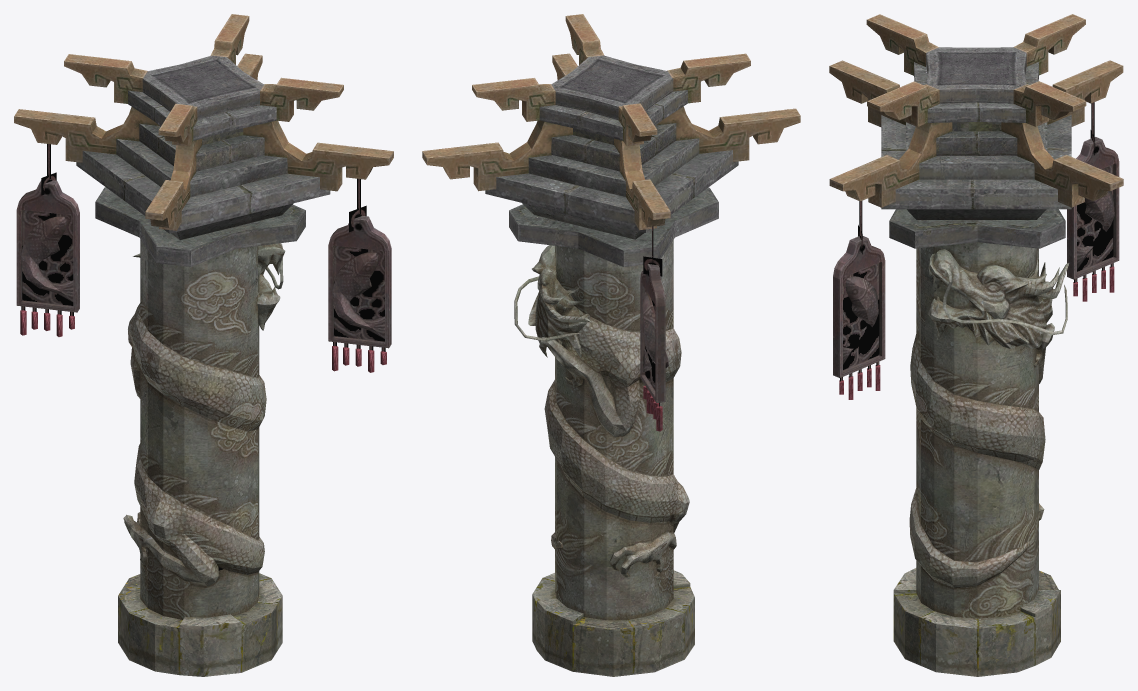
The model's file is bg_anh_gvalley_dragonpoll02_sm_cwk.FBX.
The picture shows the model from 3 angles, left to right: view 1: azimuth 30°, elevation 25°; view 2: azimuth 150°, elevation 25°; view 3: azimuth 270°, elevation 25°; orthographic projection. The views are drawn at different scales.
Parts seen in each view (by area): view 1: bg_anh_gvalley_dragonpoll02_sm_cwk; view 2: bg_anh_gvalley_dragonpoll02_sm_cwk; view 3: bg_anh_gvalley_dragonpoll02_sm_cwk.
Boxes of the visible parts, x1,y1,x2,y2 form: bg_anh_gvalley_dragonpoll02_sm_cwk: (14, 14, 393, 676); bg_anh_gvalley_dragonpoll02_sm_cwk: (422, 14, 800, 676); bg_anh_gvalley_dragonpoll02_sm_cwk: (829, 14, 1123, 676).
Size of the model in its own units: 193 by 421 by 193.
